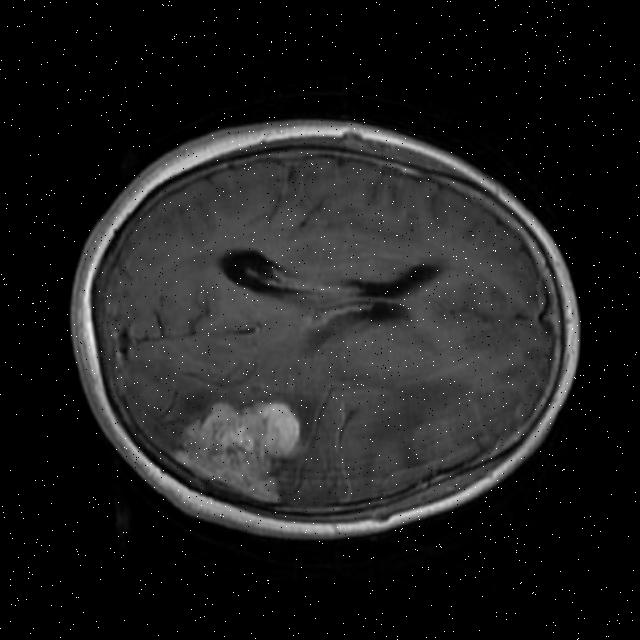Meningioma: (168, 394, 305, 507)
